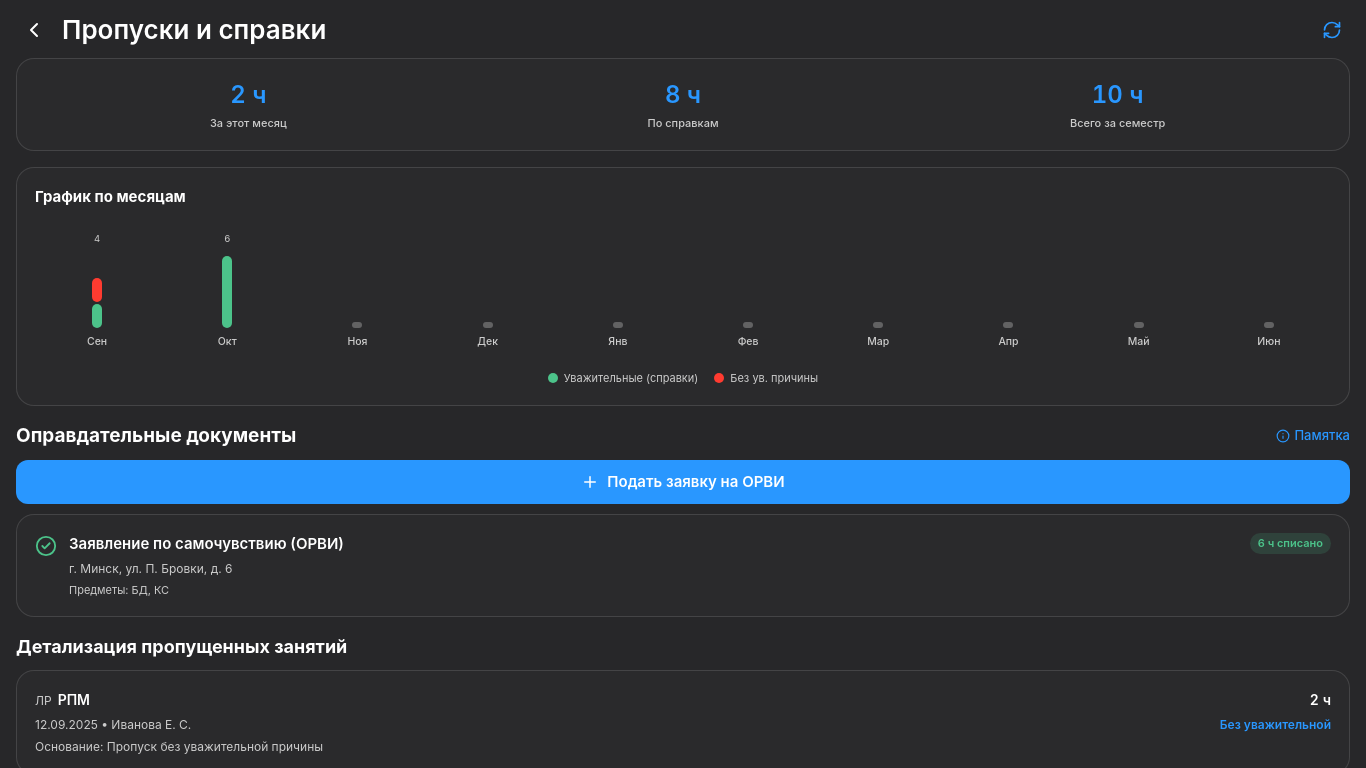
Test: M4 Screens Suite › AbsencesScreen renders KPIs, filters by monthly bar chart, signs ORVI canvas, and handles 409 monthly limit
Later steps or results of the test are not shown.
Expected: the text "10 ч" is shown, [1092,80,1144,109]
Expected: the text "За этот месяц" is shown, [210,116,287,130]
Click the button with aria-label "Месяц Сен" at {"x": 97, "y": 291}, box [35,228,159,354]
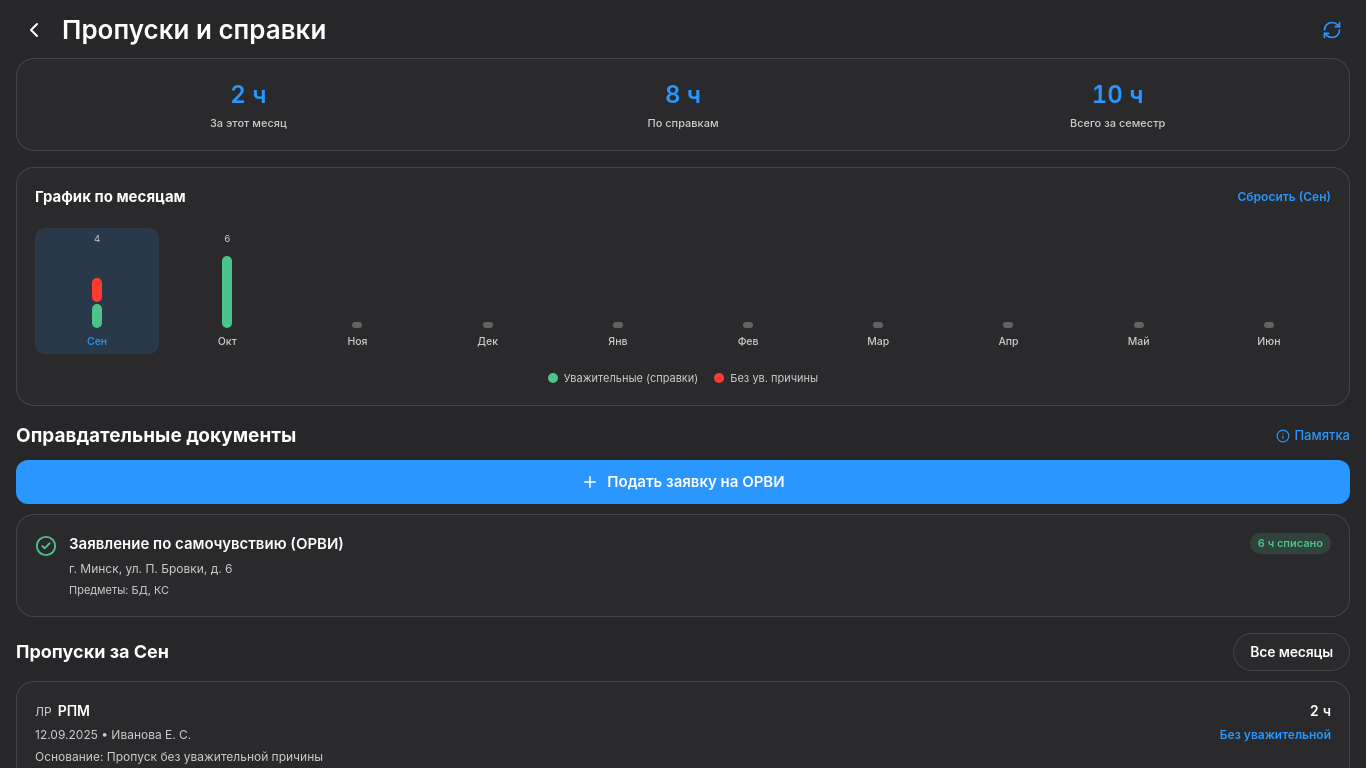
Expected: the heading "Пропуски за Сен" is shown, [16,638,169,666]
Click the button with aria-label "Месяц Сен" at {"x": 97, "y": 291}, box [35,228,159,354]
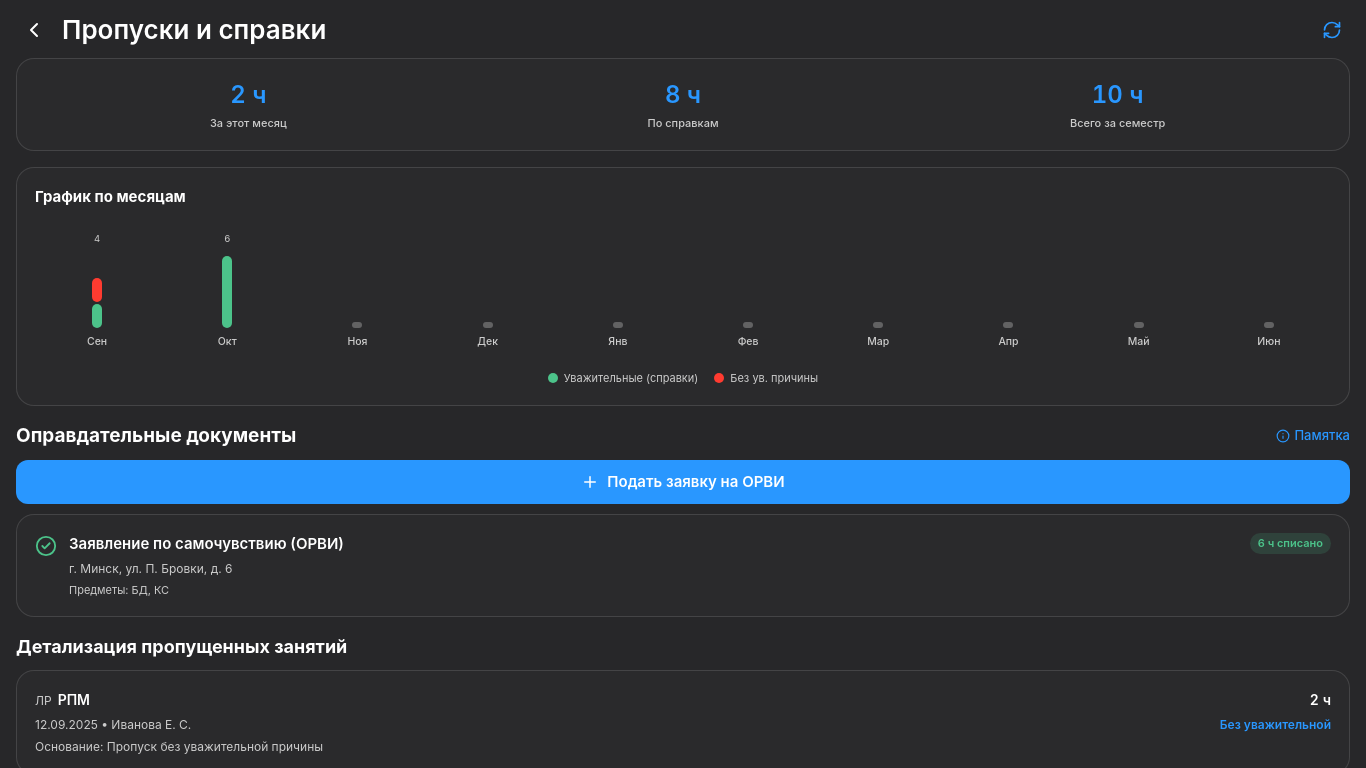
Expected: the heading "Детализация пропущенных занятий" is shown, [16,633,347,660]
Click the button "Подать заявку на ОРВИ" at {"x": 683, "y": 482}, box [16,460,1350,504]
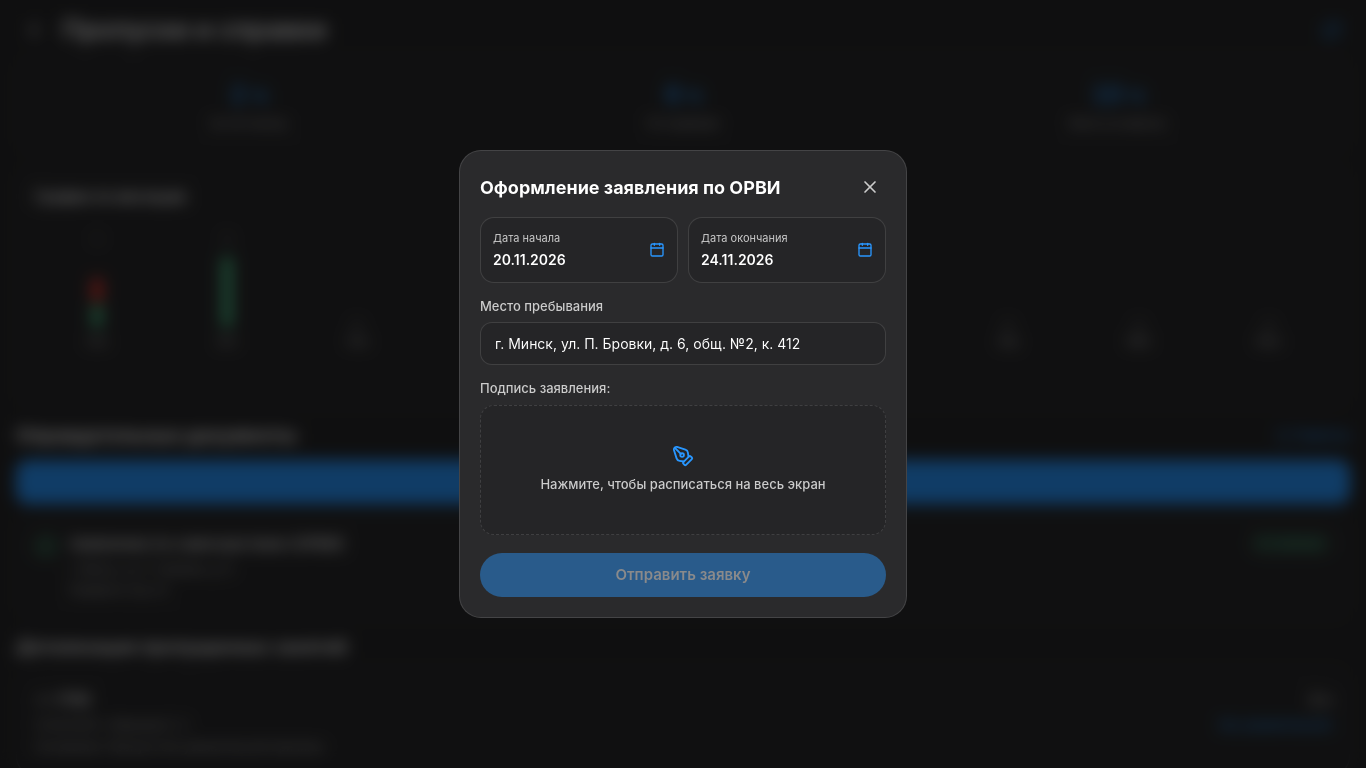
Click the button "Нажмите, чтобы расписаться на весь экран" at {"x": 683, "y": 470}, box [480,405,886,535]
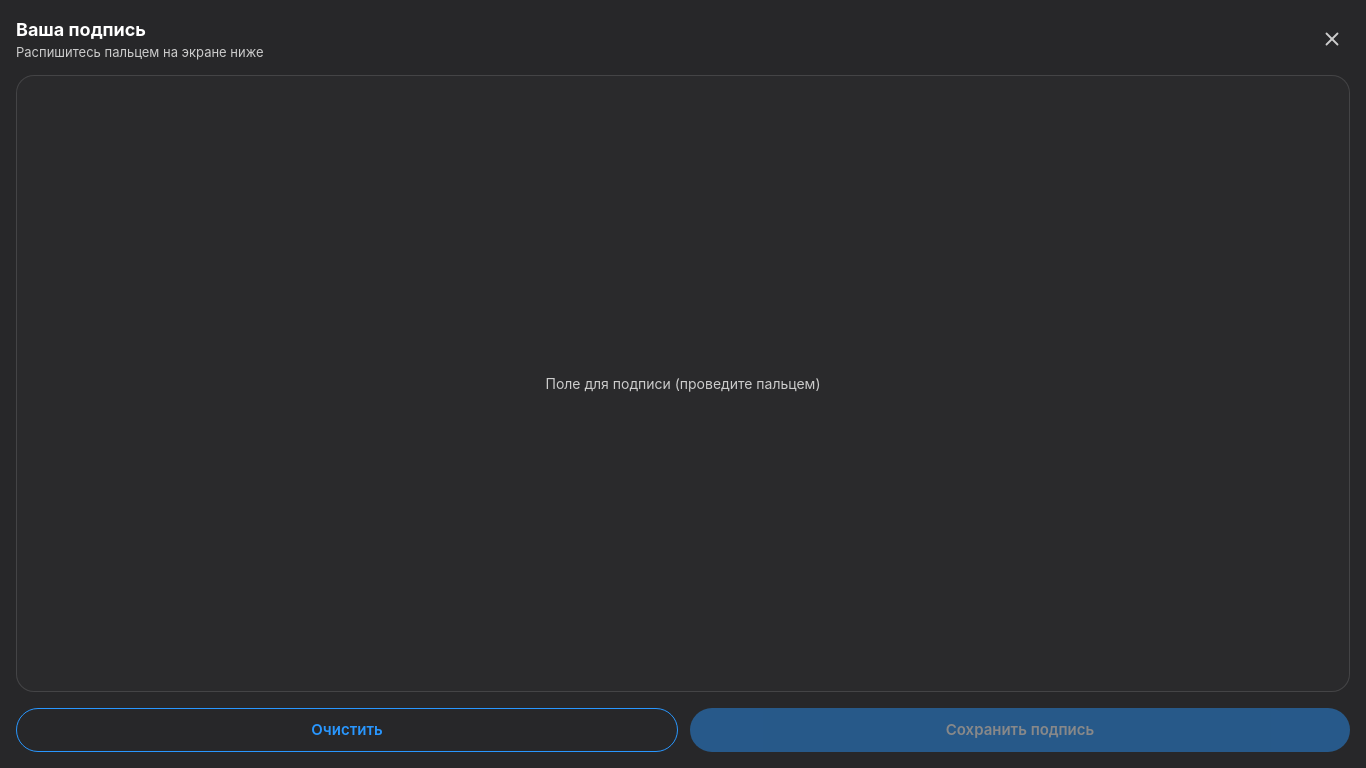
Press the mouse on the drawing with test id "signature-canvas" at {"x": 683, "y": 383}, box [17,76,1349,691]
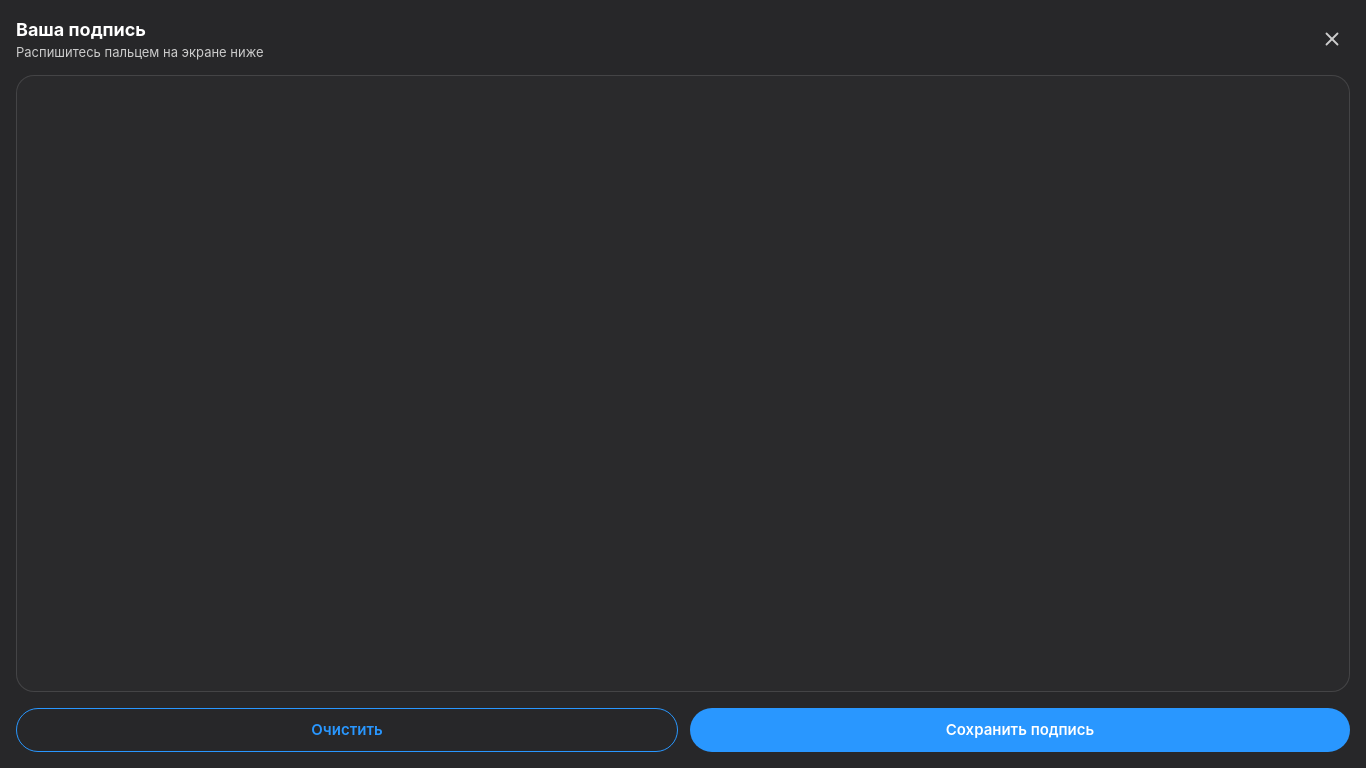
Click the button "Сохранить подпись" at {"x": 1020, "y": 730}, box [690,708,1350,752]
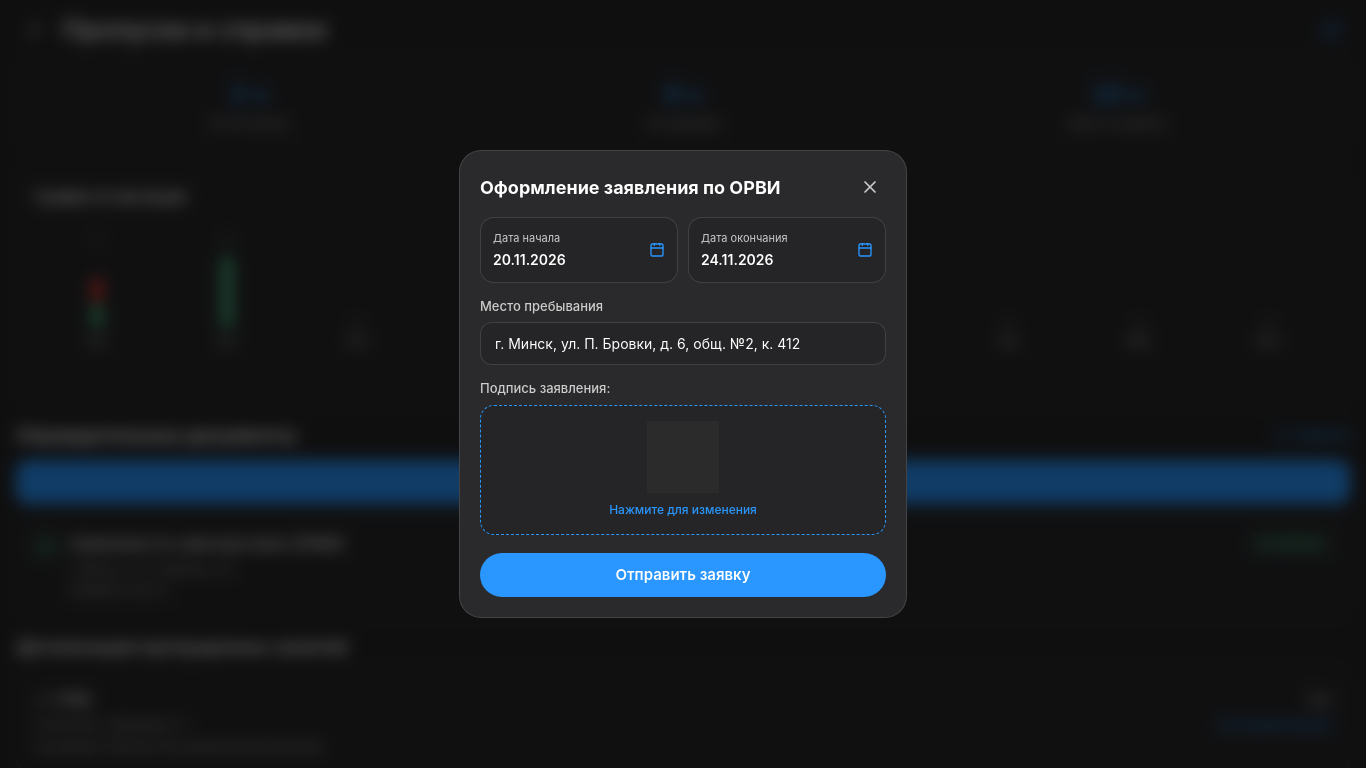
Expected: the text "Нажмите для изменения" is shown, [609,501,757,519]
